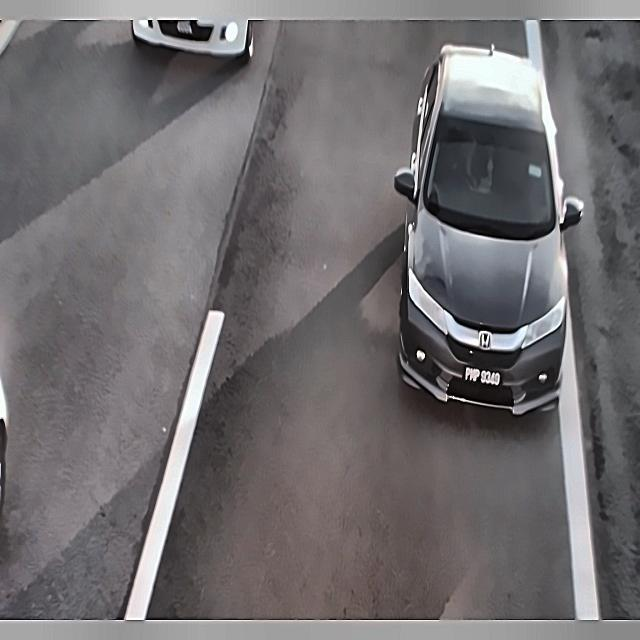car: (460, 359, 510, 393), (168, 18, 204, 46)
